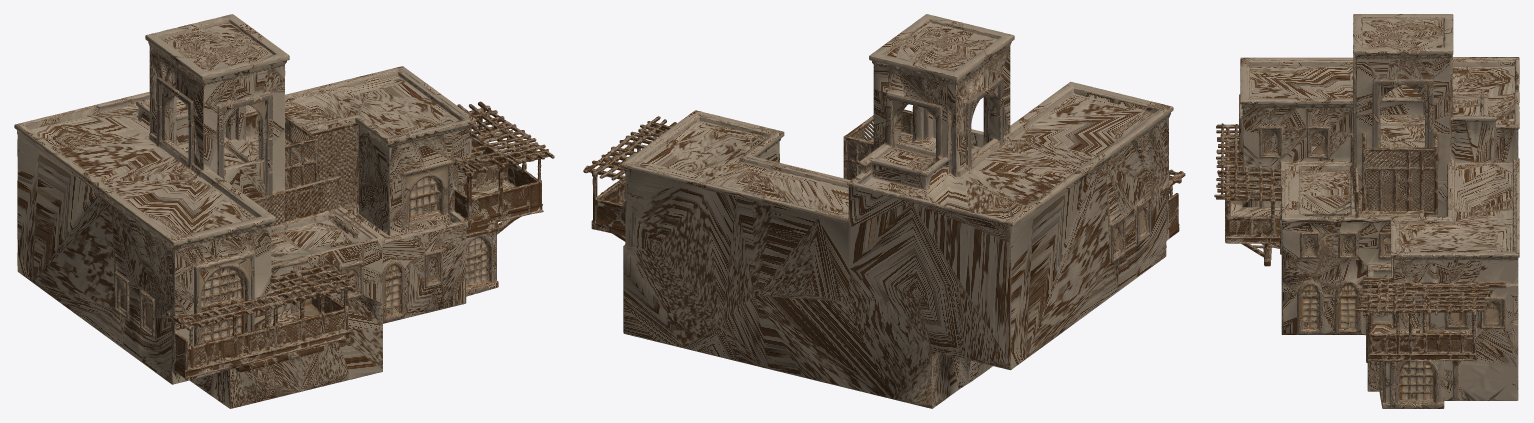
The model's file is lagoon_b.glb.
3 renders of one model, left to right at view 1: azimuth 30°, elevation 25°; view 2: azimuth 150°, elevation 25°; view 3: azimuth 270°, elevation 25°, orthographic. The views are drawn at different scales.
Size of the model in its own units: 2 by 1.27 by 1.34.
Materials: 1 (1 with a texture image).
